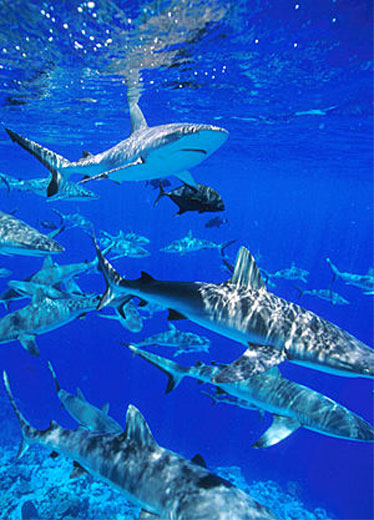Carcharhinus_amblyrhynchos: (112, 255, 374, 374), (1, 116, 223, 188)
